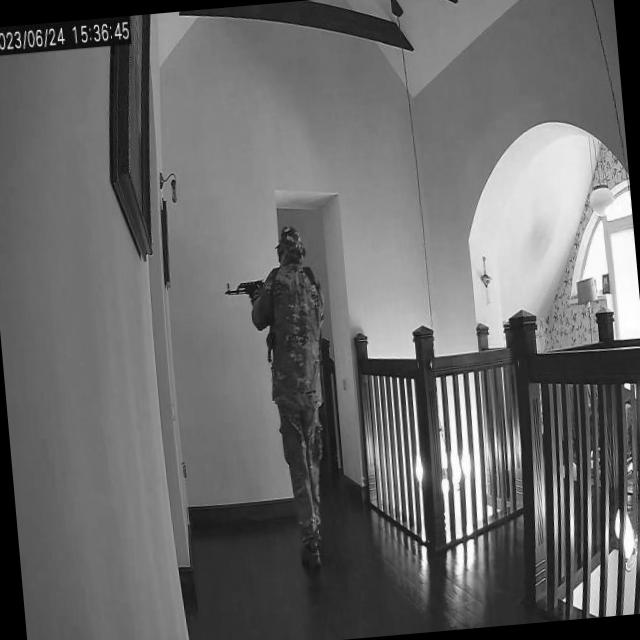gun: (222, 272, 269, 302)
person with a gun: (218, 224, 346, 572)
